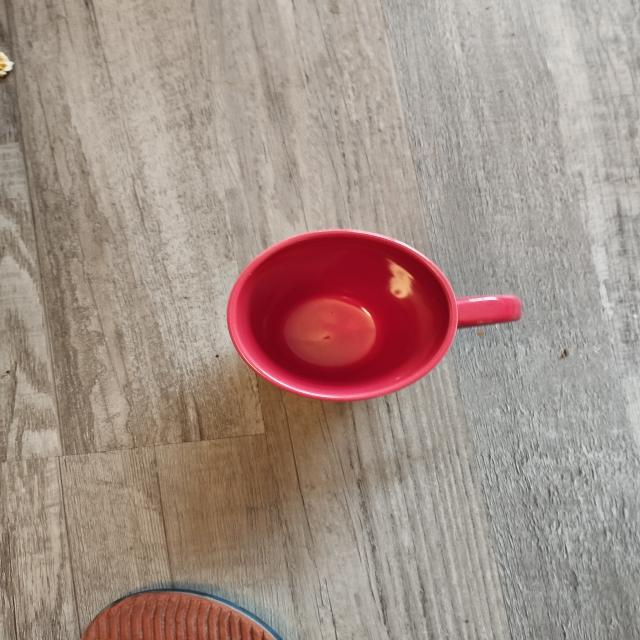Cup: (188, 205, 538, 428)
